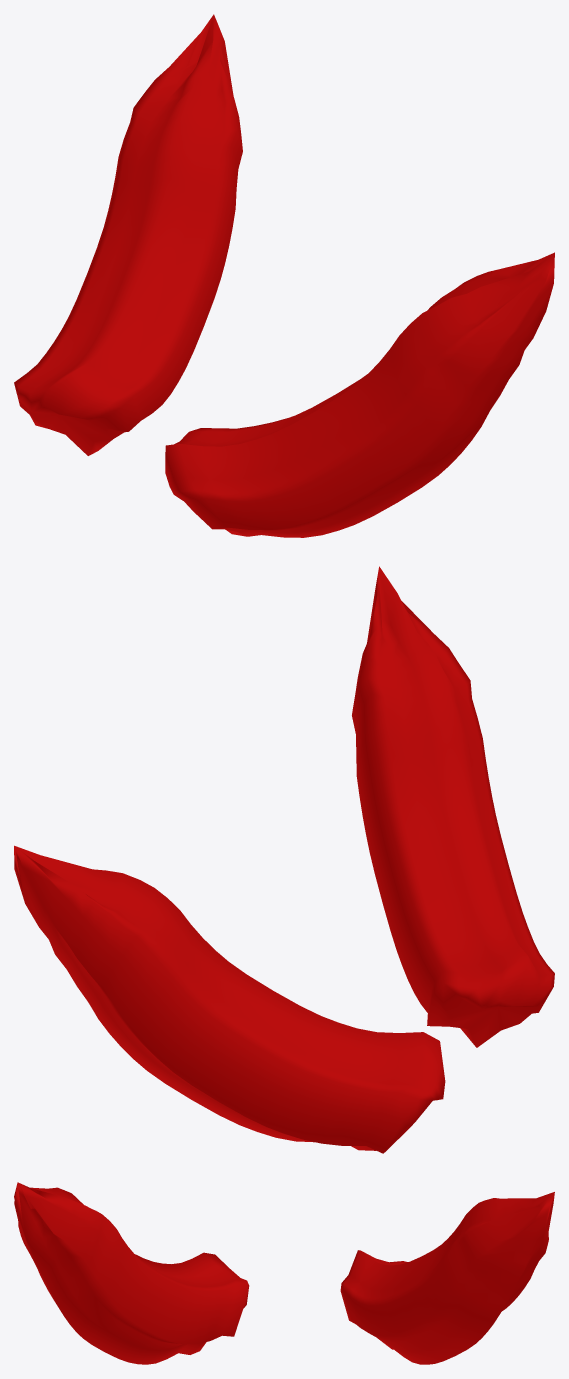
The model's file is Demon.fbx.
The picture shows the model from 3 angles, top to bottom: view 1: azimuth 30°, elevation 25°; view 2: azimuth 150°, elevation 25°; view 3: azimuth 270°, elevation 25°; orthographic projection. The views are drawn at different scales.
Visible parts, largest first — view 1: Demon; view 2: Demon; view 3: Demon.
Part boxes in pixels (box(x1,y1,x2,y2)): Demon: box(14, 14, 554, 537); Demon: box(14, 566, 554, 1153); Demon: box(14, 1182, 554, 1364).
Size of the model in its own units: 50.66 by 51.49 by 100.
